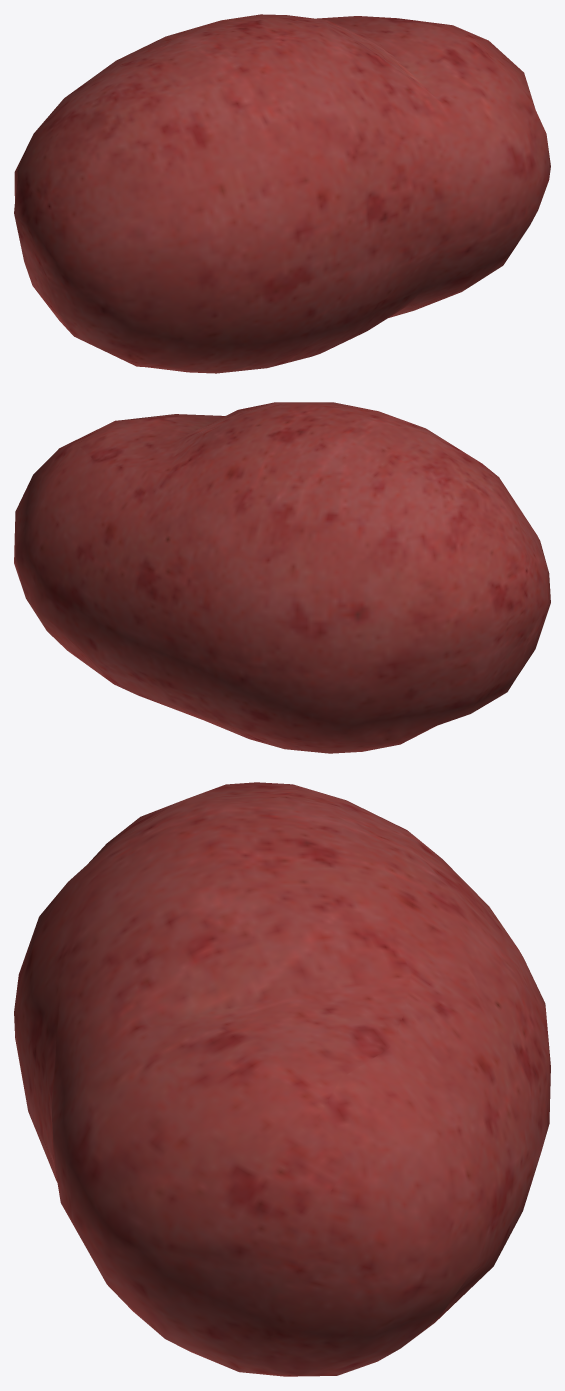
Rendered from SM_potatoe_01.fbx.
3 renders of one model, top to bottom at view 1: azimuth 30°, elevation 25°; view 2: azimuth 150°, elevation 25°; view 3: azimuth 270°, elevation 25°, orthographic. The views are drawn at different scales.
Parts seen in each view (by area): view 1: SM_potatoe_01_LOD0; view 2: SM_potatoe_01_LOD0; view 3: SM_potatoe_01_LOD0.
Part boxes in pixels (x1,y1,x2,y2): SM_potatoe_01_LOD0: (14,14,550,373); SM_potatoe_01_LOD0: (14,402,550,753); SM_potatoe_01_LOD0: (14,782,550,1376).
Bounding box in the file's own units: 9.43 × 6.2 × 5.67.
1 material, 1 textured.
